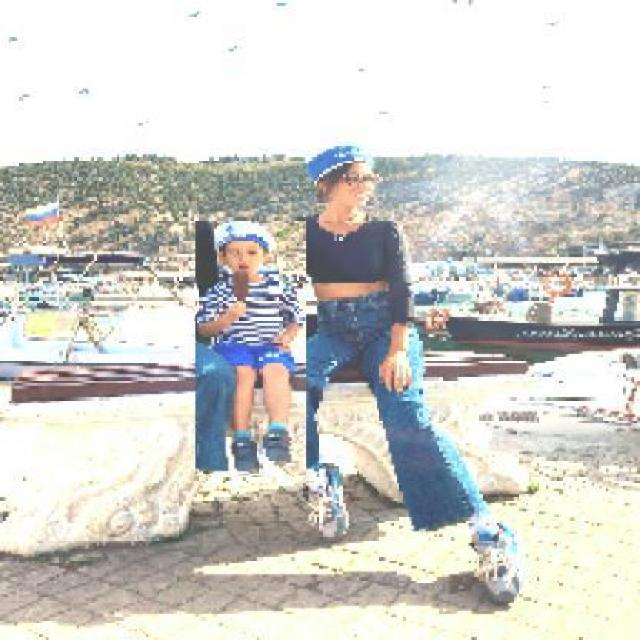child: (194, 220, 306, 477)
